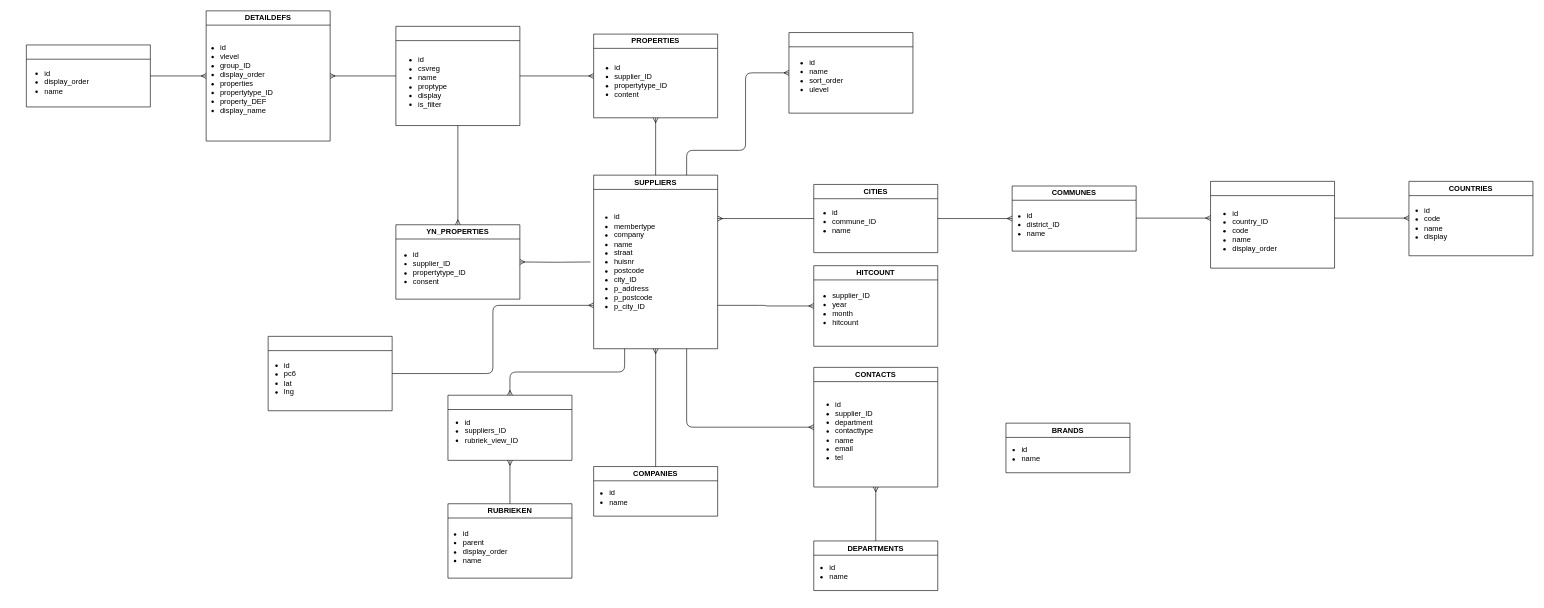
This 1544x608 diagram has some shape labels left out. The box of each missing label's shape, as (x1, y1, x2, y2) in pixels:
DETAILGROUPS: (26, 44, 150, 107)
DISTRICTS: (1210, 181, 1335, 268)
LAT_LONG: (268, 336, 392, 411)
MEMBERTYPES: (788, 32, 913, 113)
PROPERTYTYPES: (395, 26, 520, 126)
SUPPLIERS_RUBRIEK_VIEW: (447, 395, 572, 460)
